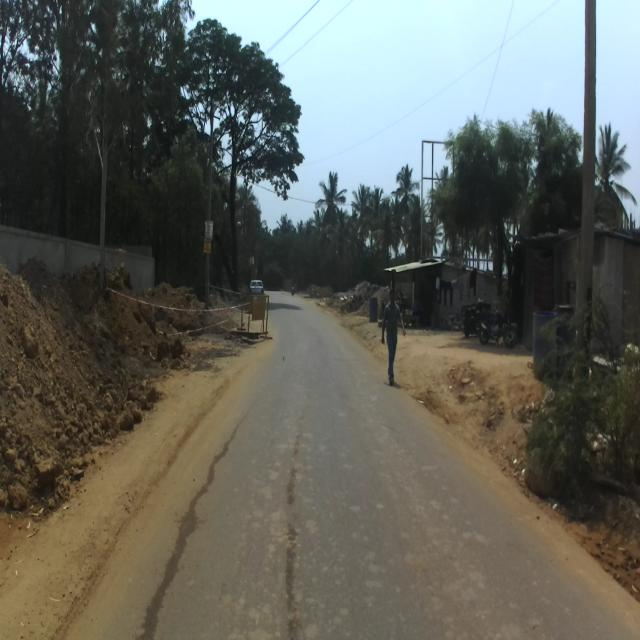barrier ahead at: (244, 293, 272, 333)
electric pole ahead at: (578, 0, 605, 407)
person ahead at: (383, 281, 409, 385)
plant ahead at: (534, 376, 598, 507)
